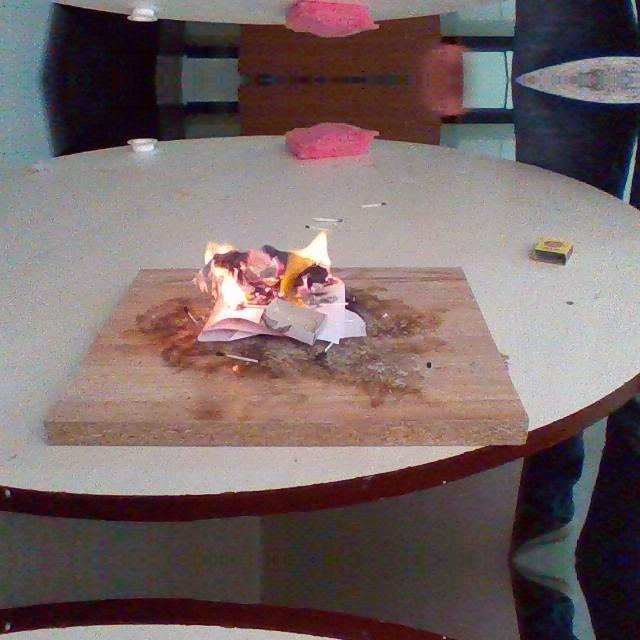smoke: (272, 230, 336, 304), (201, 240, 255, 318)
